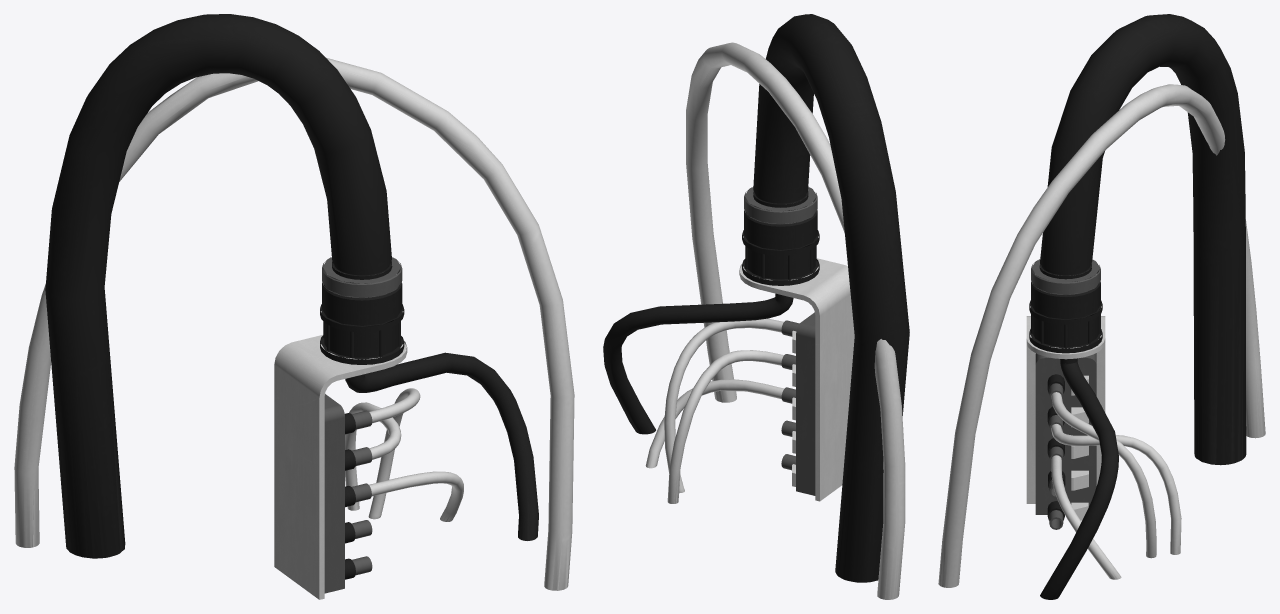
File: Cube15_TightenerStation.glb
3 views of the same model, side by side, from view 1: azimuth 30°, elevation 25°; view 2: azimuth 150°, elevation 25°; view 3: azimuth 270°, elevation 25° (orthographic). The views are drawn at different scales.
Parts seen in each view (by area): view 1: color-2.003; view 2: color-2.003; view 3: color-2.003.
Part boxes in pixels (x1,y1,x2,y2): color-2.003: [14, 14, 574, 599]; color-2.003: [603, 14, 909, 599]; color-2.003: [938, 14, 1265, 599].
Bounding box in the file's own units: 0.2402 × 0.2968 × 0.1871.
3 materials, 3 textured.
